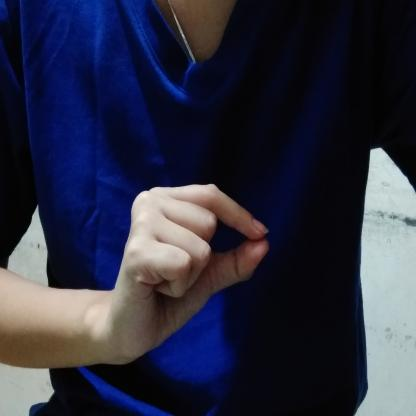nothing: (110, 175, 276, 372)
